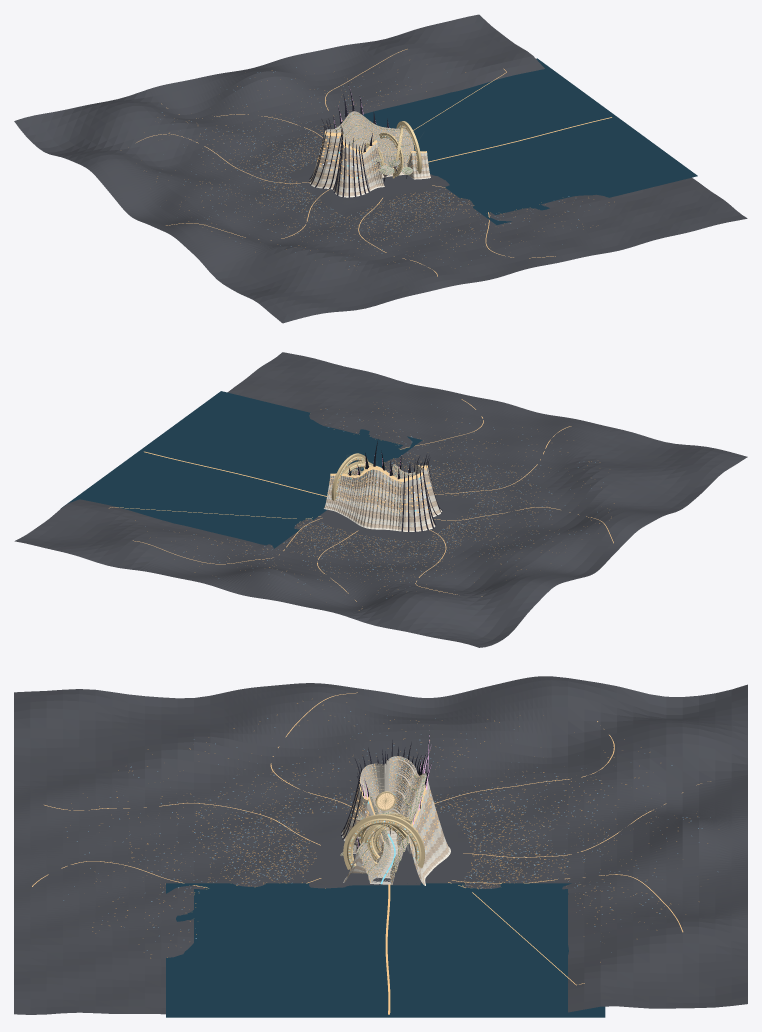
File: C55A_SevenfoldHaloRift.glb
The picture shows the model from 3 angles, top to bottom: view 1: azimuth 30°, elevation 25°; view 2: azimuth 150°, elevation 25°; view 3: azimuth 270°, elevation 25°; orthographic projection. The views are drawn at different scales.
Parts seen in each view (by area): view 1: terrain_land, inland_sea, N_wall_risers, district_carpets_warm, apse_outer_shell, apse_rear_fins, apse_outer_band, S_wall_outer_shell, S_wall_outer_band, N_win_win_warm, district_carpets_cool, N_wall_ledges; view 2: terrain_land, inland_sea, N_wall_outer_shell, N_wall_outer_band, district_carpets_warm, apse_outer_shell, apse_outer_band, apse_rear_fins, district_carpets_cool; view 3: terrain_land, inland_sea, district_carpets_warm, apse_risers, district_carpets_cool, N_wall_outer_shell, N_wall_outer_band, apse_ledges, halo7_body_0, N_wall_ledges, halo7_teeth0, N_wall_risers (+2 smaller).
Part boxes in pixels (box(x1,y1,x2,y2)): terrain_land: box(14, 14, 747, 323); inland_sea: box(362, 58, 697, 224); N_wall_risers: box(333, 111, 414, 167); district_carpets_warm: box(144, 60, 614, 269); apse_outer_shell: box(309, 134, 370, 197); apse_rear_fins: box(309, 119, 369, 197); apse_outer_band: box(310, 140, 369, 196); S_wall_outer_shell: box(362, 143, 430, 190); S_wall_outer_band: box(363, 148, 430, 189); N_win_win_warm: box(334, 112, 413, 166); district_carpets_cool: box(160, 67, 580, 266); N_wall_ledges: box(333, 111, 413, 165); terrain_land: box(14, 352, 747, 647); inland_sea: box(61, 391, 422, 548); N_wall_outer_shell: box(324, 469, 402, 530); N_wall_outer_band: box(324, 476, 402, 529); district_carpets_warm: box(135, 403, 614, 595); apse_outer_shell: box(399, 468, 441, 531); apse_outer_band: box(399, 473, 440, 530); apse_rear_fins: box(401, 455, 442, 532); district_carpets_cool: box(145, 404, 603, 598); terrain_land: box(14, 676, 747, 1014); inland_sea: box(166, 883, 605, 1017); district_carpets_warm: box(65, 698, 707, 962); apse_risers: box(360, 756, 416, 832); district_carpets_cool: box(63, 711, 717, 952); N_wall_outer_shell: box(409, 781, 450, 885); N_wall_outer_band: box(410, 789, 449, 884); apse_ledges: box(360, 756, 416, 827); halo7_body_0: box(347, 818, 421, 867); N_wall_ledges: box(390, 772, 426, 882); halo7_teeth0: box(343, 814, 424, 869); N_wall_risers: box(390, 773, 425, 884).
Size of the model in its own units: 31800 by 5795 by 31400.
